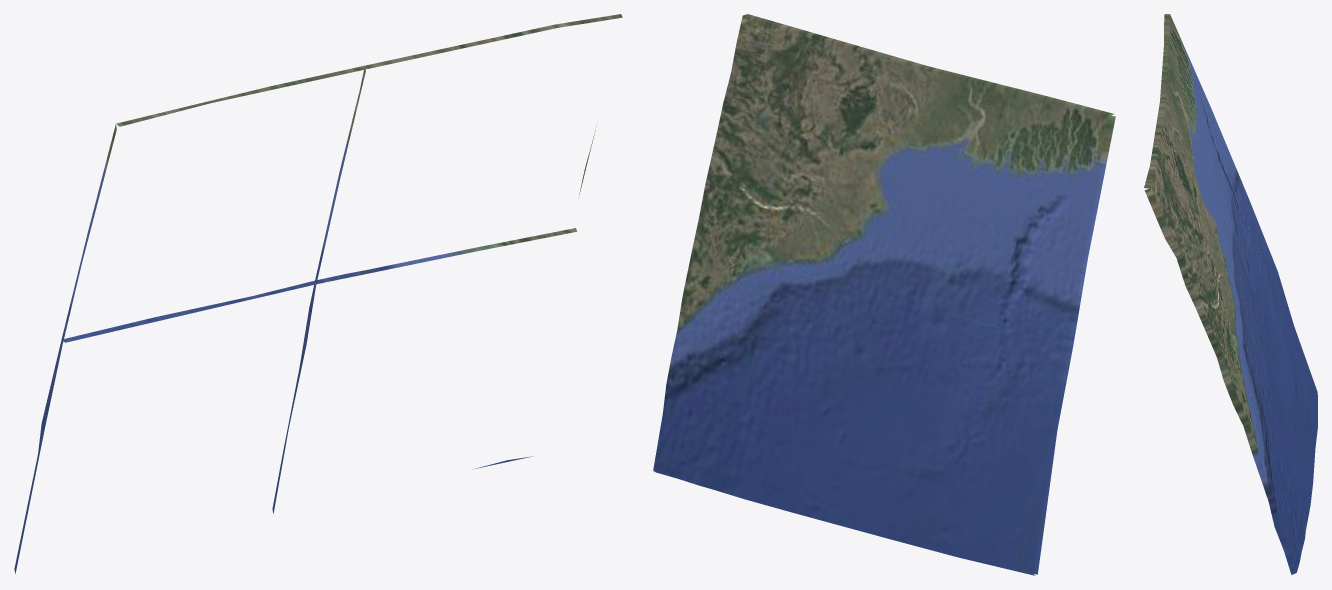
The picture shows the model from 3 angles, left to right: view 1: azimuth 30°, elevation 25°; view 2: azimuth 150°, elevation 25°; view 3: azimuth 270°, elevation 25°; orthographic projection. The views are drawn at different scales.
Size of the model in its own units: 605399 by 595466 by 244839.
1 material, 1 textured.
